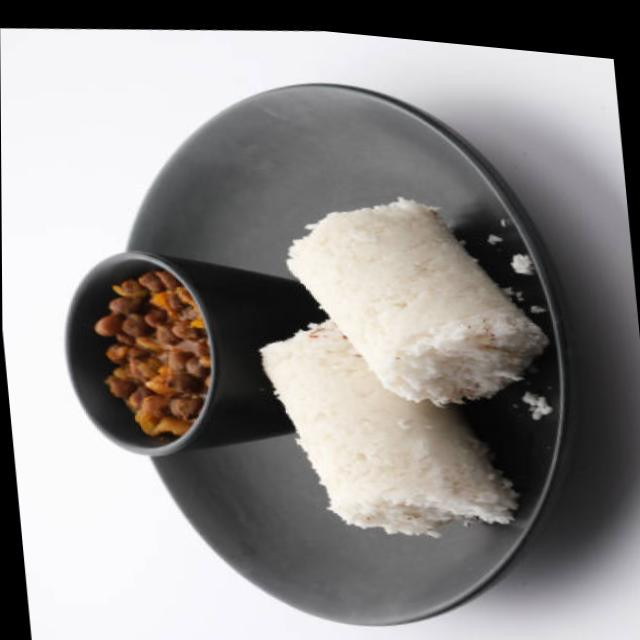CURRY: (93, 270, 213, 438)
PUTTU: (250, 195, 552, 538)
